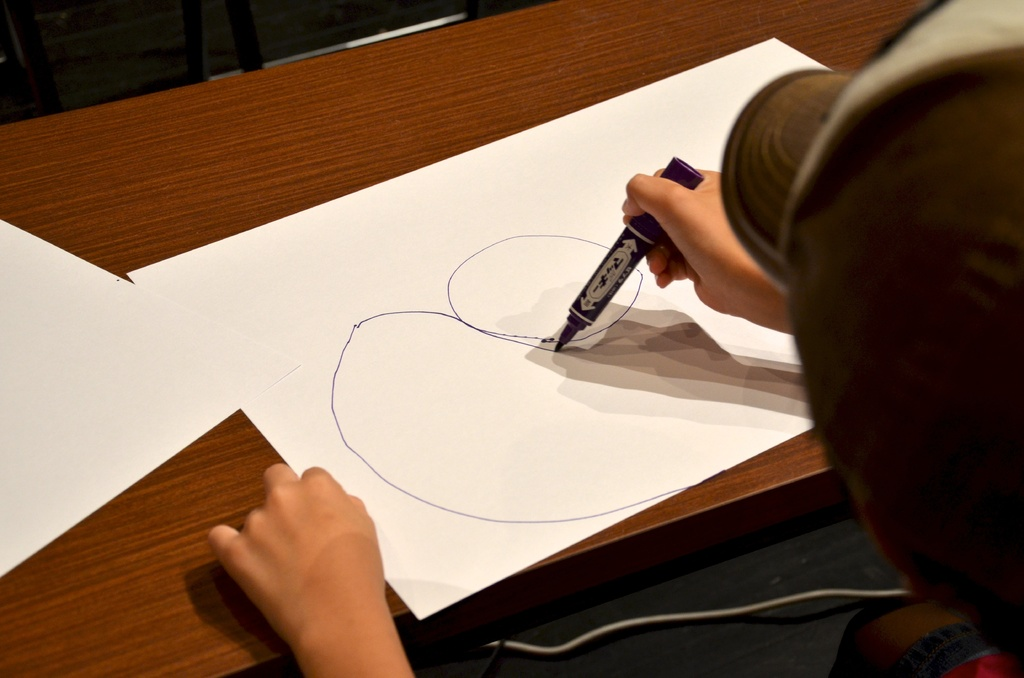Pen: (545, 155, 711, 350)
